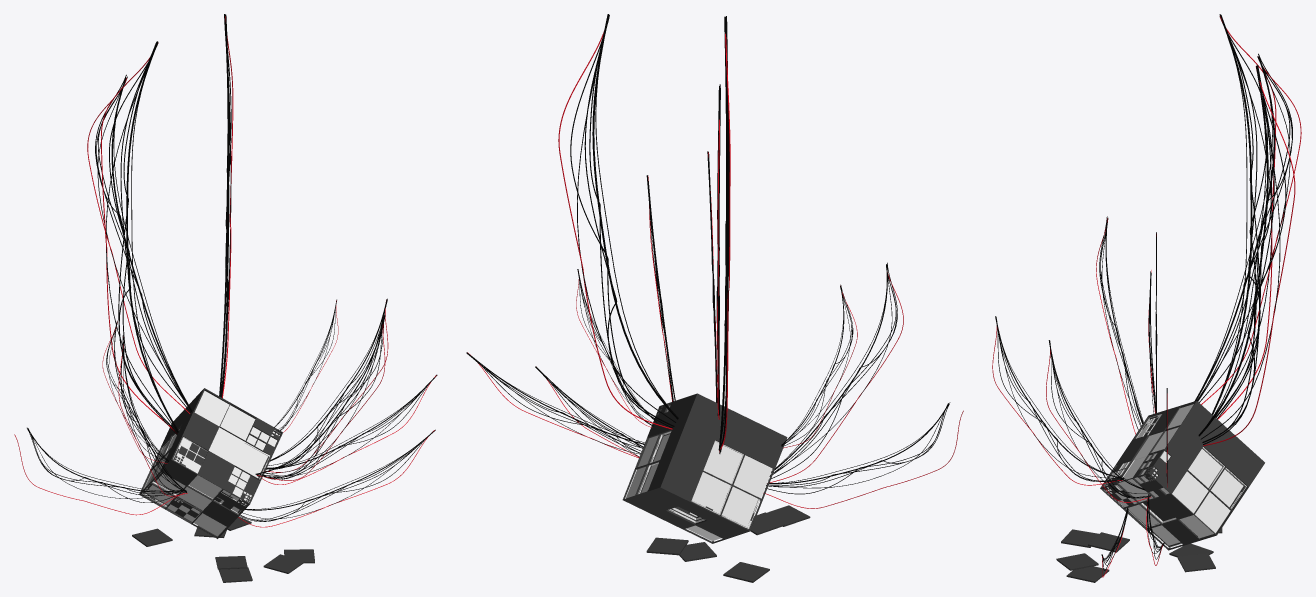
The model's file is Cyber Cube新.fbx.
The picture shows the model from 3 angles, left to right: view 1: azimuth 30°, elevation 25°; view 2: azimuth 150°, elevation 25°; view 3: azimuth 270°, elevation 25°; orthographic projection. The views are drawn at different scales.
Visible parts, largest first — view 1: Cube.032, Cube.034, BézierCurve.010, BézierCurve.013, Cube.033, BézierCurve.012, BézierCurve.016, BézierCurve.017, BézierCurve.009, BézierCurve.014, BézierCurve.015, BézierCurve.008 (+4 smaller); view 2: Cube.032, BézierCurve.012, Cube.033, Cube.034, BézierCurve.010, BézierCurve.008, BézierCurve.014, BézierCurve.015, BézierCurve.007, BézierCurve.013, BézierCurve.009, BézierCurve.011 (+1 smaller); view 3: Cube.032, Cube.034, BézierCurve.012, BézierCurve.010, BézierCurve.013, BézierCurve.016, BézierCurve.008, Cube.001, BézierCurve.009, Cube.033, Cube.041, Cube (+5 smaller).
Boxes of the visible parts, x1,y1,x2,y2 form: Cube.032: (139, 388, 282, 538); Cube.034: (142, 390, 280, 536); BézierCurve.010: (101, 41, 178, 434); BézierCurve.013: (87, 74, 192, 413); Cube.033: (144, 434, 267, 512); BézierCurve.012: (219, 14, 233, 397); BézierCurve.016: (255, 315, 385, 480); BézierCurve.017: (238, 429, 435, 527); BézierCurve.009: (263, 298, 388, 472); BézierCurve.014: (14, 427, 184, 515); BézierCurve.015: (260, 374, 437, 484); BézierCurve.008: (118, 335, 187, 496); Cube.032: (622, 393, 787, 543); BézierCurve.012: (558, 14, 678, 429); Cube.033: (639, 432, 758, 527); Cube.034: (626, 405, 772, 540); BézierCurve.010: (718, 16, 730, 453); BézierCurve.008: (768, 262, 903, 482); BézierCurve.014: (763, 402, 963, 508); BézierCurve.015: (466, 352, 644, 457); BézierCurve.007: (781, 284, 857, 448); BézierCurve.013: (716, 84, 720, 419); BézierCurve.009: (646, 175, 675, 401); BézierCurve.011: (576, 269, 656, 427); Cube.032: (1100, 400, 1264, 550); Cube.034: (1104, 404, 1246, 547); BézierCurve.012: (1198, 65, 1295, 445); BézierCurve.010: (1212, 14, 1276, 419); BézierCurve.013: (1194, 53, 1301, 404); BézierCurve.016: (992, 316, 1123, 485); BézierCurve.008: (1096, 216, 1143, 434); Cube.001: (1188, 449, 1243, 507); BézierCurve.009: (1046, 340, 1150, 502); Cube.033: (1110, 415, 1244, 545); Cube.041: (1177, 553, 1215, 572); Cube: (1143, 417, 1244, 536).
Bounding box in the file's own units: 2954 × 3219 × 1739.
